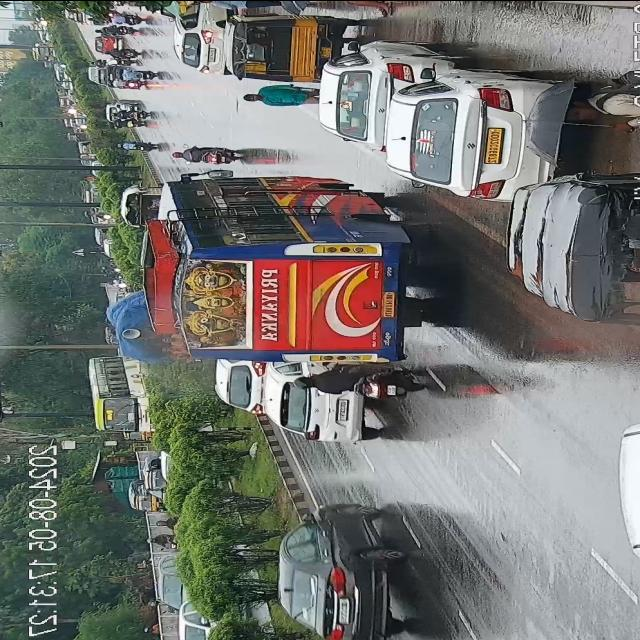2-wheelers: (296, 369, 422, 399), (170, 136, 243, 166), (118, 67, 156, 83), (121, 141, 154, 151), (110, 110, 150, 118), (106, 120, 144, 128)
auto: (512, 230, 640, 334), (225, 12, 343, 88)
bus: (137, 176, 436, 364), (100, 360, 159, 440)
car: (389, 61, 550, 196), (270, 501, 404, 640), (318, 43, 428, 146), (264, 361, 378, 455), (606, 382, 640, 603), (175, 1, 228, 77)
pedestrian: (237, 84, 311, 105), (198, 0, 276, 14), (310, 1, 402, 12)
